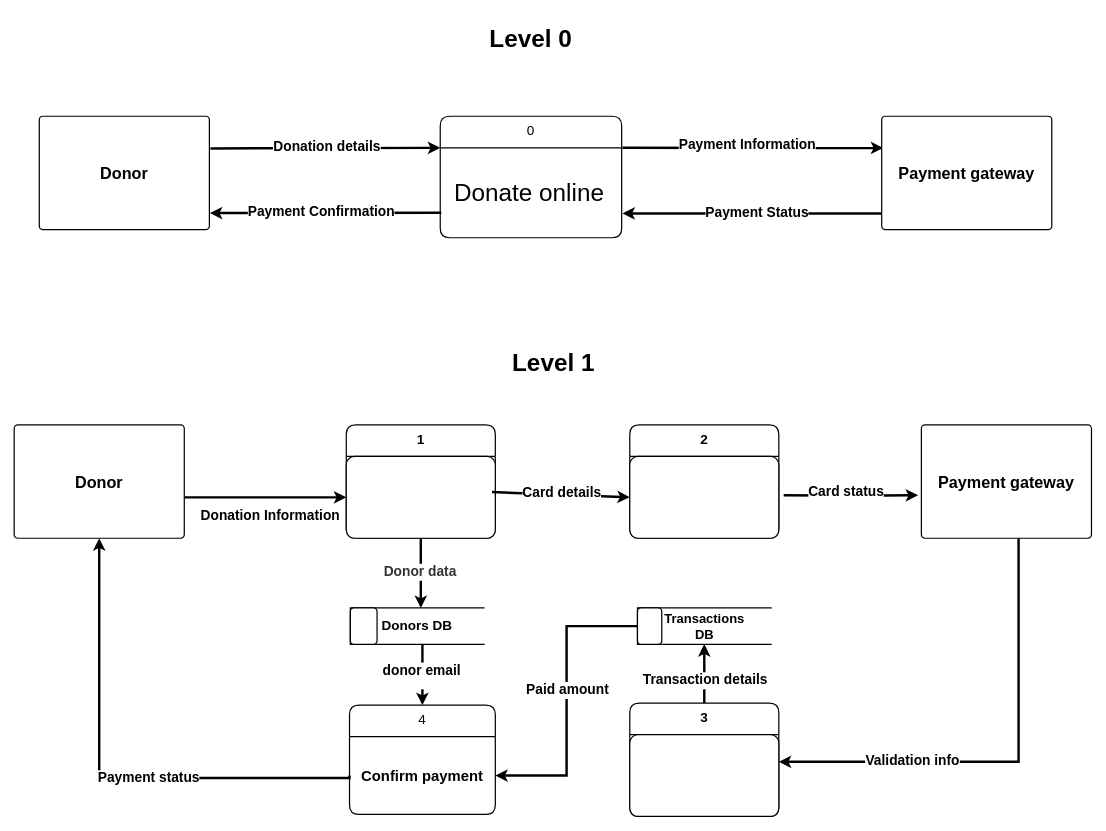
Image size: 1106x831. Some labels were removed from this diagram. Each missing label, with the centre of its shape:
Check if card valid: pixel 704 496
proceed payment: pixel 704 775
Submit donation details: pixel 420 496
